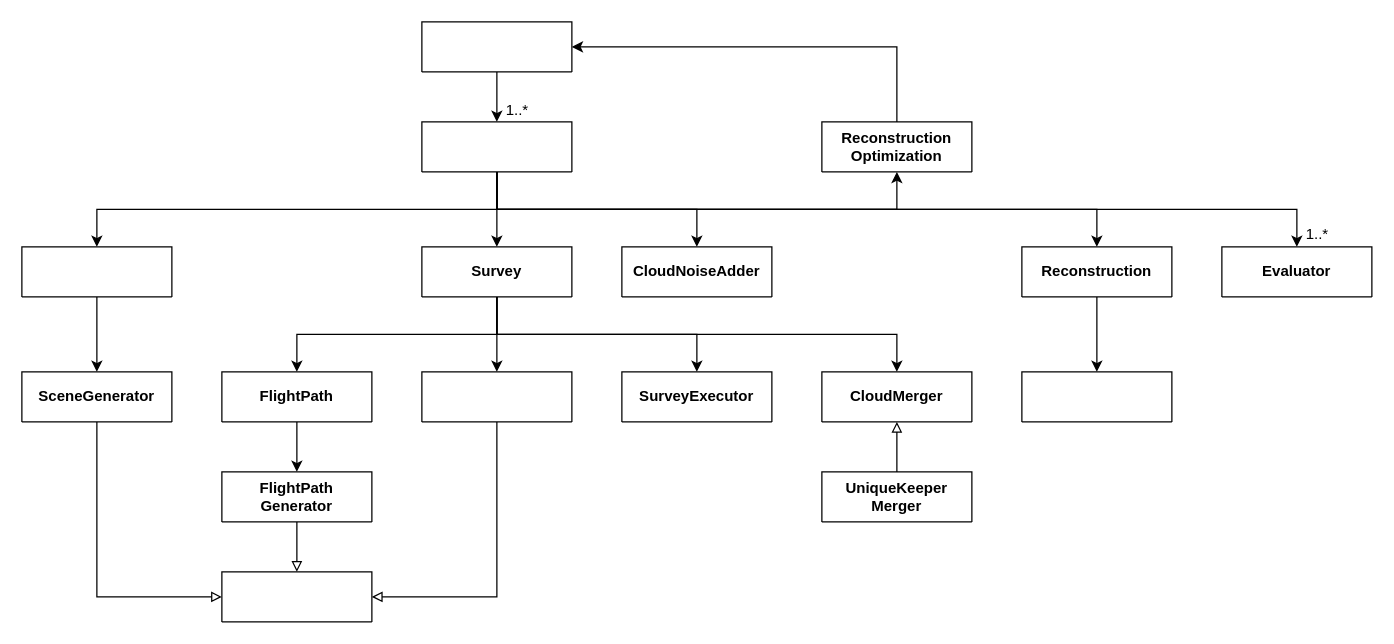
Some shapes in this 1394 by 644 pixel diagram are drawn without their labels. Here are the shapes that lost their labels. From the top down, the centre of each, then its label:
At (x=496, y=46): "Experiment".
At (x=496, y=146): "Scenario".
At (x=96, y=271): "Scene".
At (x=496, y=396): "SurveyGenerator".
At (x=1096, y=396): "Reconstruction Executor".
At (x=296, y=596): "XMLGenerator".
